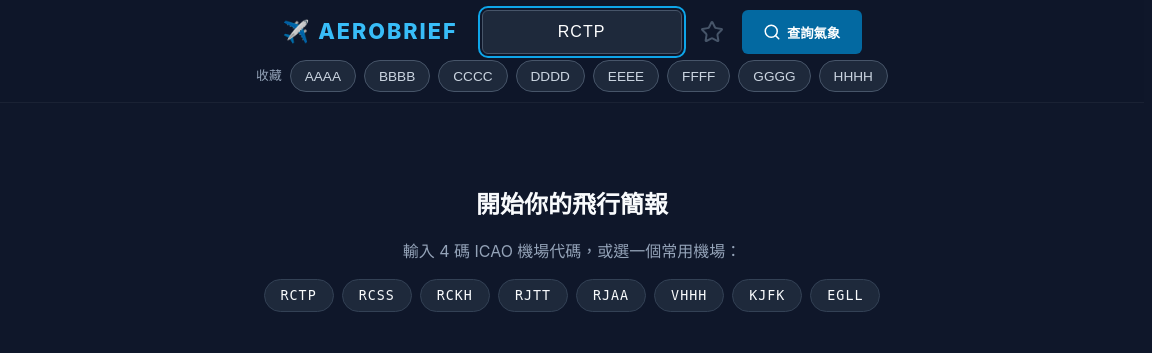
it: favorites › a full list shows an inline notice instead of window.alert
The width and height of the screenshot is (1152, 353).
Click the button named "收藏 RCTP": x=712, y=32 [690, 10, 734, 54]
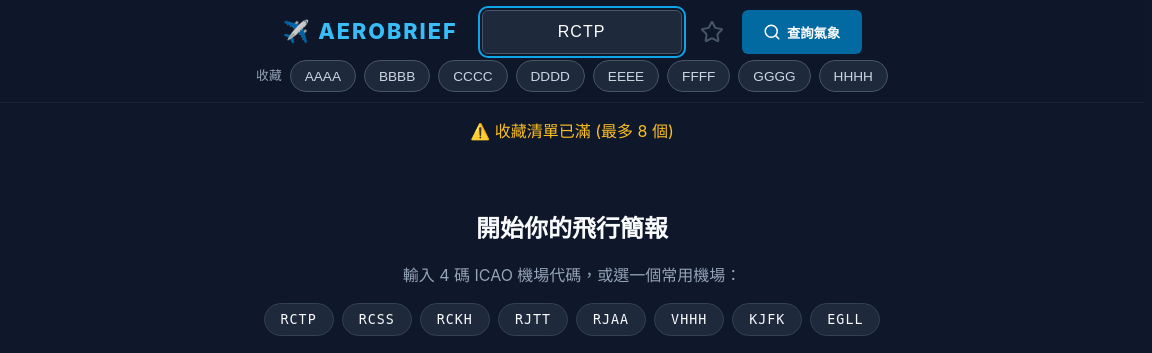
Expected: the text "⚠️ 收藏清單已滿 (最多 8 個)" is shown, [470, 121, 674, 141]
